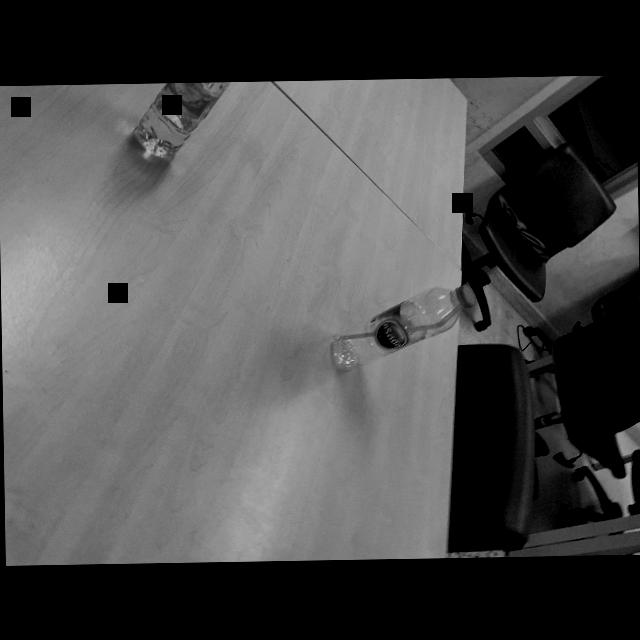plastic_bottle: (324, 281, 476, 374), (129, 82, 236, 164)
plastic_bottle_cap: (338, 302, 464, 341), (452, 284, 474, 311)
